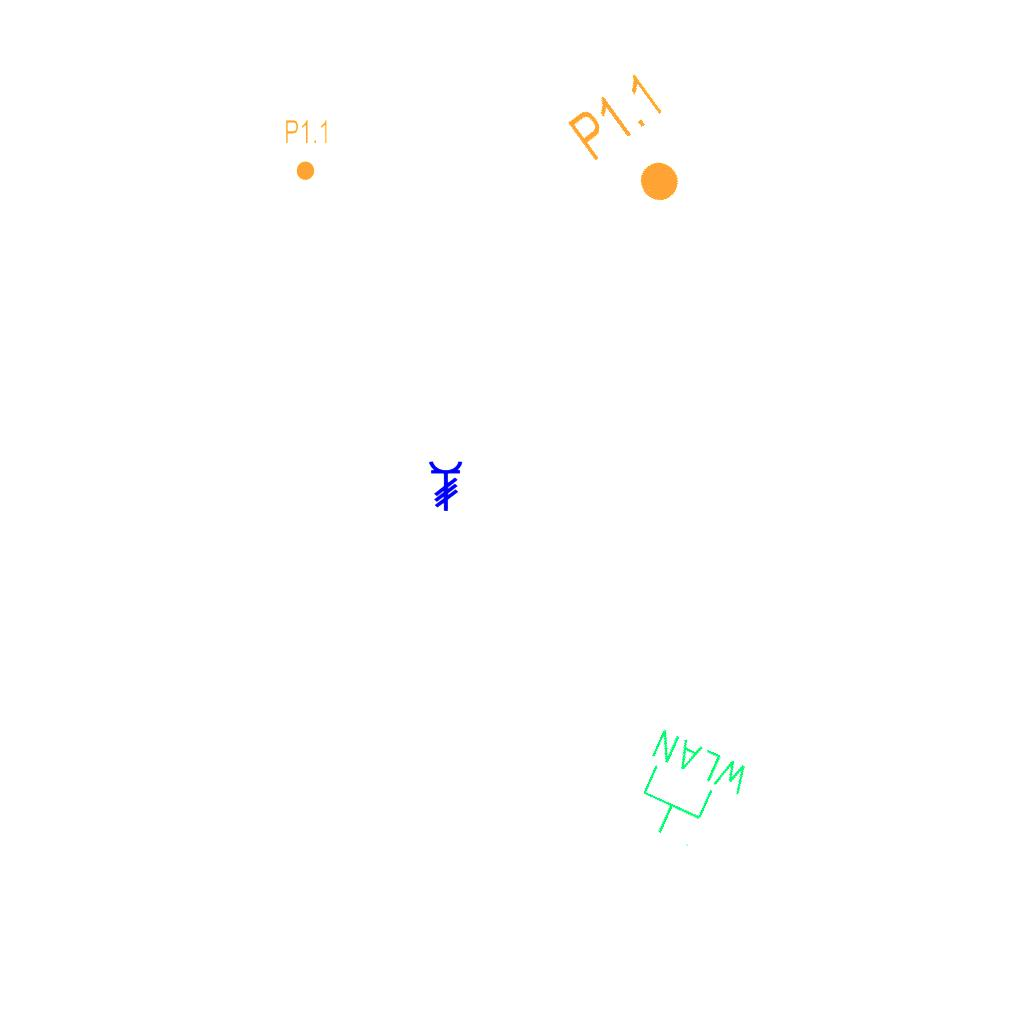CEE_Drehstrom_Steckdose_16_32_A: (419, 460, 464, 512)
Downlight_LED_Einbauleuchten_Flur_2: (562, 66, 713, 226), (284, 118, 330, 182)
WLAN: (618, 723, 758, 862)
